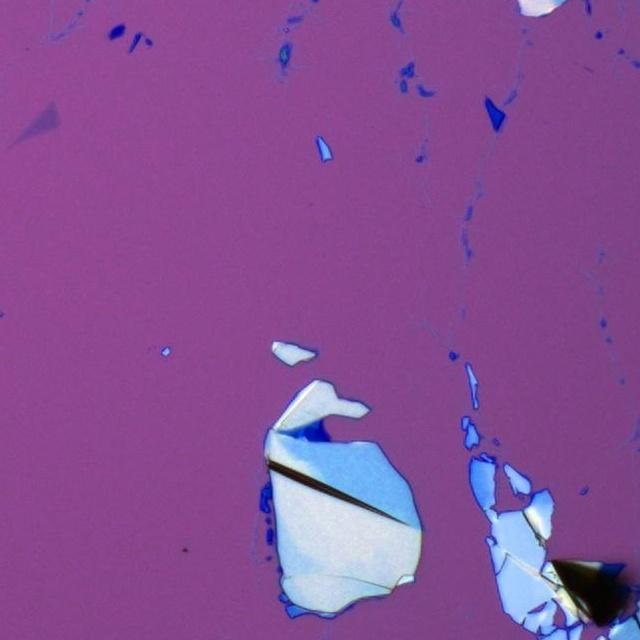monolayer-eWW4: (8, 100, 62, 148)
